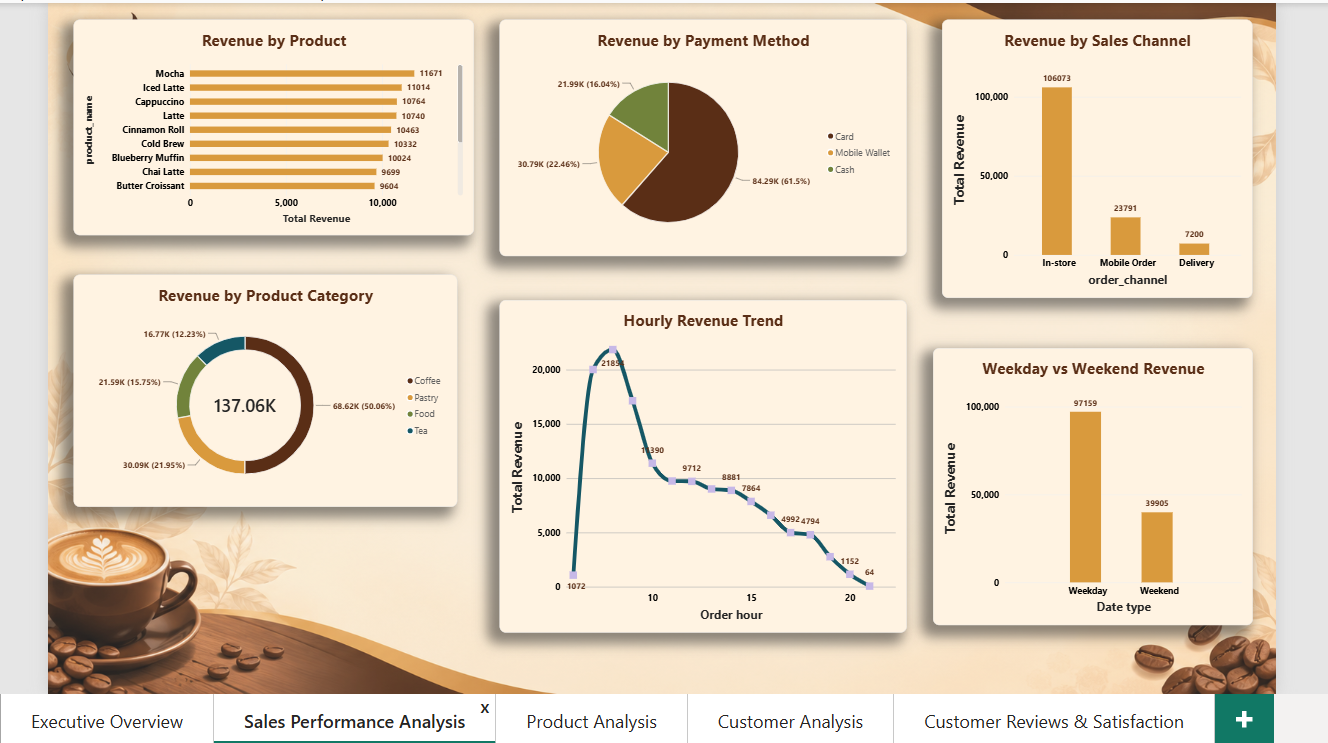

The page's visual inventory and layout, read from the dashboard file:
{"tool":"powerbi","page":{"name":"Sales Performance Analysis","canvas":[1920,1080],"ordinal":1},"visuals":[{"type":"clusteredBarChart","title":"Revenue by Product","fields":{"Category":["Product.product_name"],"Y":["Transaction_Items_Clean.Total Revenue"]},"box":[40,26.7,626,337.6],"z":0},{"type":"clusteredColumnChart","title":"Revenue by Sales Channel","fields":{"Category":["Transaction_raw_Clean.order_channel"],"Y":["Transaction_Items_Clean.Total Revenue"]},"box":[1396.7,26.7,485,435],"z":1},{"type":"pieChart","title":"Revenue by Payment Method","fields":{"Category":["Transaction_raw_Clean.payment_method"],"Y":["Transaction_Items_Clean.Total Revenue"]},"box":[706.7,26.7,636.7,370],"z":2},{"type":"columnChart","title":"Weekday vs Weekend Revenue","fields":{"Category":["Transaction_raw_Clean.Date type"],"Y":["Transaction_Items_Clean.Total Revenue"]},"box":[1383.3,540,500,433.3],"z":3},{"type":"lineChart","title":"Hourly Revenue Trend","fields":{"Category":["Transaction_raw_Clean.Order hour"],"Y":["Transaction_Items_Clean.Total Revenue"]},"box":[706.7,463.3,636.7,520],"z":4},{"type":"donutChart","title":"Revenue by Product Category","fields":{"Category":["Product.category"],"Y":["Transaction_Items_Clean.Total Revenue"]},"box":[40,423.3,600,363.3],"z":5}]}

Visuals, with their boxes on the page's 1920x1080 design canvas (x1, y1, x2, y2). These are canvas units, not pixel positions in the 1328x743 screenshot, which may show the page scaled, cropped or inside an application window:
"Revenue by Product" clusteredBarChart: select_region(40, 27, 666, 364)
"Revenue by Sales Channel" clusteredColumnChart: select_region(1397, 27, 1882, 462)
"Revenue by Payment Method" pieChart: select_region(707, 27, 1343, 397)
"Weekday vs Weekend Revenue" columnChart: select_region(1383, 540, 1883, 973)
"Hourly Revenue Trend" lineChart: select_region(707, 463, 1343, 983)
"Revenue by Product Category" donutChart: select_region(40, 423, 640, 787)
